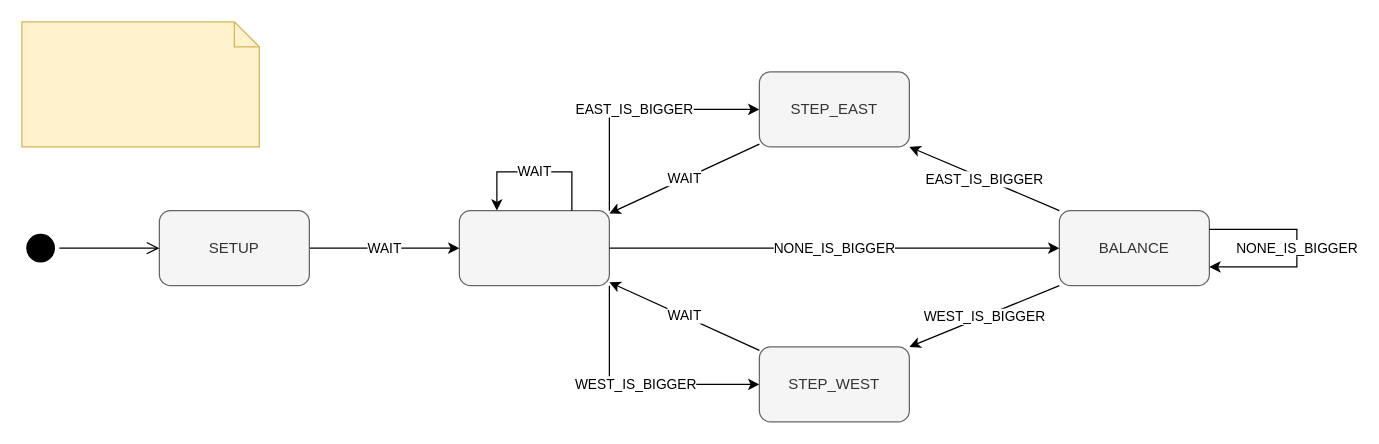
The diagram is 1379 pixels wide and 444 high, and some of its shapes have lost their labels. The centre of each missing label's shape, as x and y in pixels:
Todos los estados permiten el evento RESTART que vuelve al estado SETUP.: point 140,84
WAITING: point 533,247
